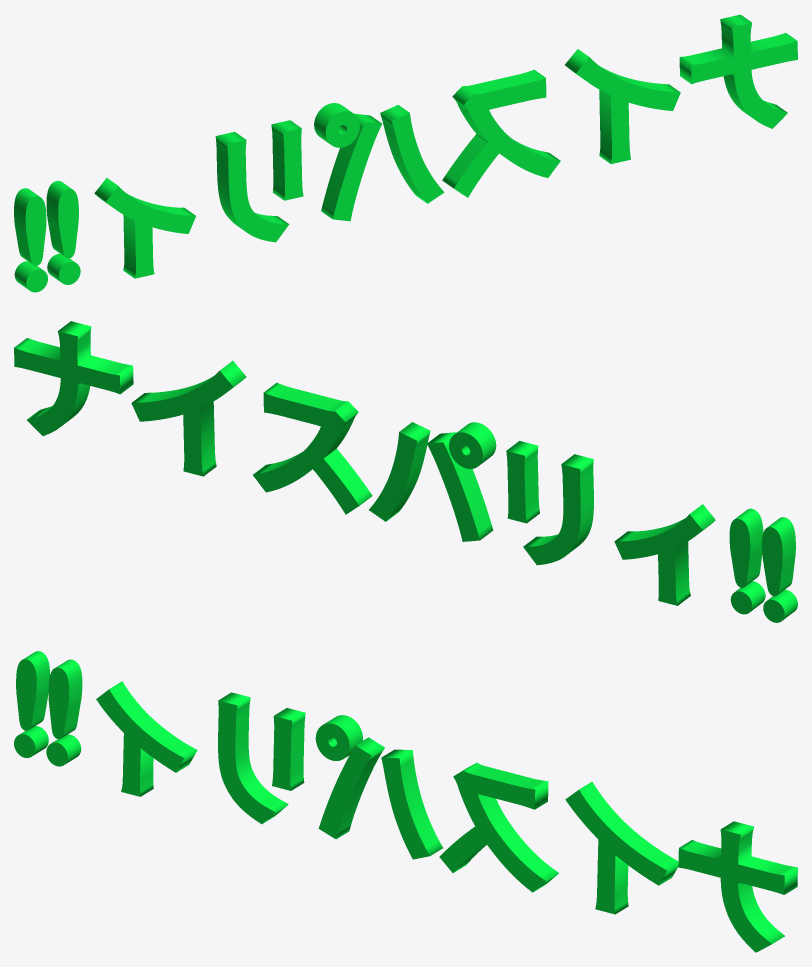
Rendered from ClearFont.obj.
3 renders of one model, top to bottom at view 1: azimuth 30°, elevation 25°; view 2: azimuth 150°, elevation 25°; view 3: azimuth 330°, elevation 25°, orthographic. The views are drawn at different scales.
Parts seen in each view (by area): view 1: テキスト; view 2: テキスト; view 3: テキスト.
Boxes of the visible parts, x1,y1,x2,y2 form: テキスト: (14,14,797,292); テキスト: (14,321,797,622); テキスト: (14,651,797,952).
Size of the model in its own units: 6.43 by 0.9548 by 0.3898.
